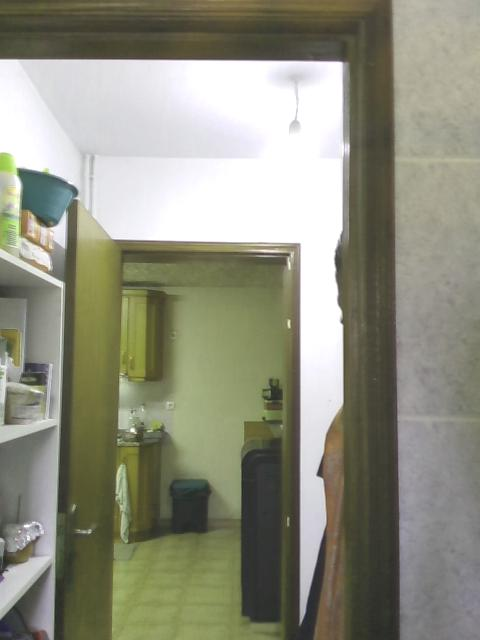open_door: (88, 240, 300, 638)
